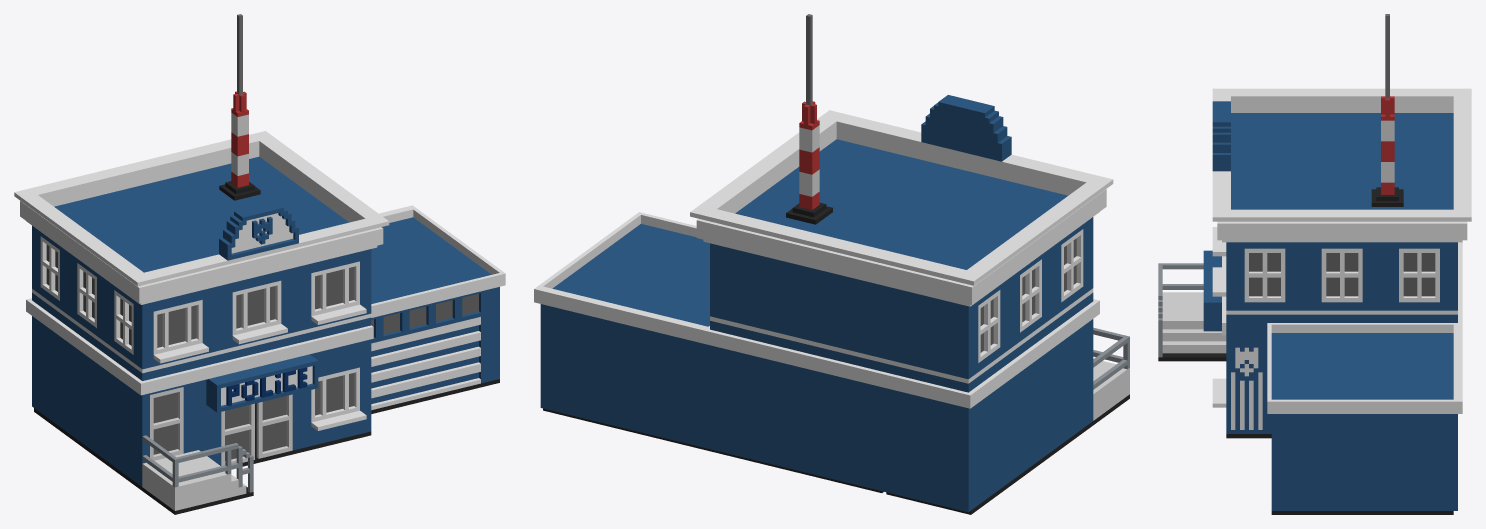
Rendered from police.obj.
The picture shows the model from 3 angles, left to right: view 1: azimuth 30°, elevation 25°; view 2: azimuth 150°, elevation 25°; view 3: azimuth 270°, elevation 25°; orthographic projection. The views are drawn at different scales.
Size of the model in its own units: 10.5 by 9.6 by 6.9.
Materials: 1 (1 with a texture image).
